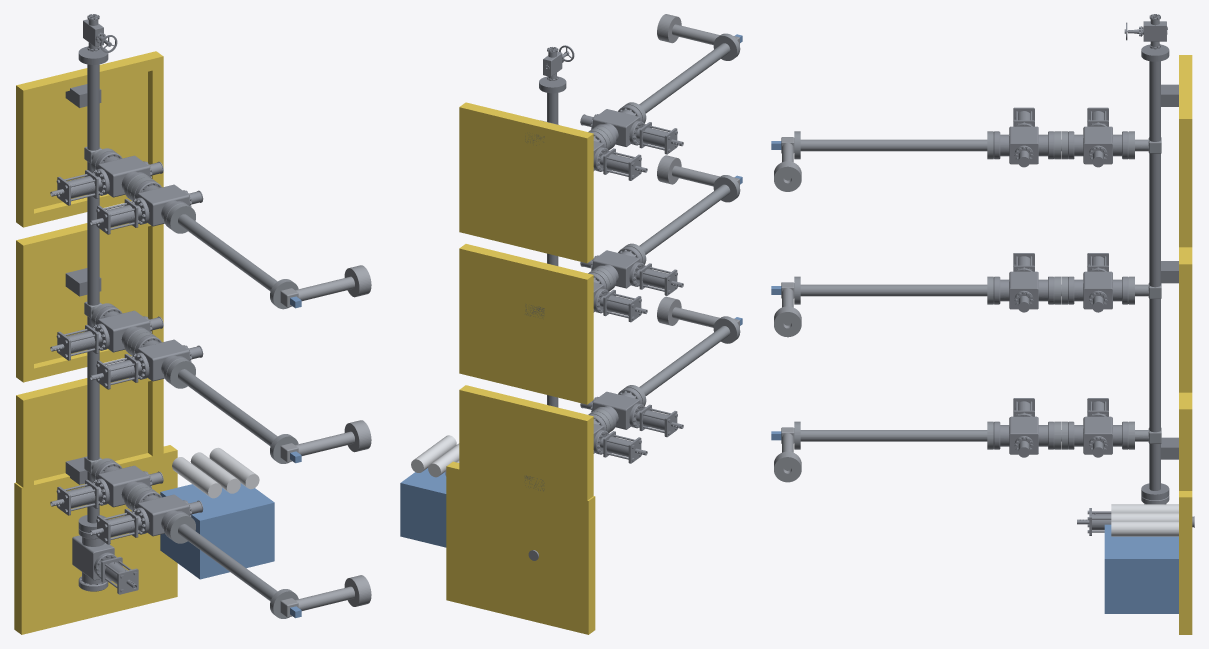
Rendered from WH-ZIPPER.5-15K.glb.
3 views of the same model, side by side, from view 1: azimuth 30°, elevation 25°; view 2: azimuth 150°, elevation 25°; view 3: azimuth 270°, elevation 25° (orthographic). The views are drawn at different scales.
Visible parts, largest first — view 1: WH-ZIPPER-SKID, WH-ZIPPER-LEG, WH-ZIPPER-ISOVALVE, WH-ZIPPER-VALVE, WH-ZIPPER-HPU, WH-ZIPPER-INLETHEADER, WH-ZIPPER-OUTLET, WH-ZIPPER-INLETVALVE, WH-ZIPPER-ACCUMULATOR, WH-ZIPPER-BLEEDVALVE; view 2: WH-ZIPPER-SKID, WH-ZIPPER-VALVE, WH-ZIPPER-LEG, WH-ZIPPER-ISOVALVE, WH-ZIPPER-HPU, WH-ZIPPER-OUTLET, WH-ZIPPER-ACCUMULATOR, WH-ZIPPER-INLETHEADER, WH-ZIPPER-BLEEDVALVE; view 3: WH-ZIPPER-LEG, WH-ZIPPER-SKID, WH-ZIPPER-VALVE, WH-ZIPPER-ISOVALVE, WH-ZIPPER-INLETHEADER, WH-ZIPPER-HPU, WH-ZIPPER-OUTLET, WH-ZIPPER-ACCUMULATOR, WH-ZIPPER-BLEEDVALVE, WH-ZIPPER-INLETVALVE.
Boxes of the visible parts, x1,y1,x2,y2 form: WH-ZIPPER-SKID: [14, 51, 177, 634]; WH-ZIPPER-LEG: [84, 146, 298, 618]; WH-ZIPPER-ISOVALVE: [50, 151, 163, 515]; WH-ZIPPER-VALVE: [90, 180, 203, 544]; WH-ZIPPER-HPU: [160, 483, 274, 579]; WH-ZIPPER-INLETHEADER: [65, 46, 108, 532]; WH-ZIPPER-OUTLET: [280, 265, 371, 617]; WH-ZIPPER-INLETVALVE: [72, 528, 138, 594]; WH-ZIPPER-ACCUMULATOR: [172, 447, 259, 498]; WH-ZIPPER-BLEEDVALVE: [83, 14, 117, 52]; WH-ZIPPER-SKID: [446, 102, 595, 634]; WH-ZIPPER-VALVE: [580, 105, 683, 437]; WH-ZIPPER-LEG: [588, 33, 740, 432]; WH-ZIPPER-ISOVALVE: [588, 131, 647, 463]; WH-ZIPPER-HPU: [400, 468, 446, 547]; WH-ZIPPER-OUTLET: [657, 14, 739, 327]; WH-ZIPPER-ACCUMULATOR: [411, 435, 459, 477]; WH-ZIPPER-INLETHEADER: [524, 76, 566, 491]; WH-ZIPPER-BLEEDVALVE: [543, 45, 574, 80]; WH-ZIPPER-LEG: [794, 131, 1161, 449]; WH-ZIPPER-SKID: [1179, 55, 1192, 634]; WH-ZIPPER-VALVE: [993, 107, 1054, 457]; WH-ZIPPER-ISOVALVE: [1068, 107, 1128, 457]; WH-ZIPPER-INLETHEADER: [1141, 44, 1178, 500]; WH-ZIPPER-HPU: [1104, 524, 1178, 613]; WH-ZIPPER-OUTLET: [774, 137, 801, 482]; WH-ZIPPER-ACCUMULATOR: [1111, 504, 1178, 536]; WH-ZIPPER-BLEEDVALVE: [1124, 14, 1167, 49]; WH-ZIPPER-INLETVALVE: [1077, 495, 1194, 535].
Bounding box in the file's own units: 3.69 × 9.56 × 6.38.
